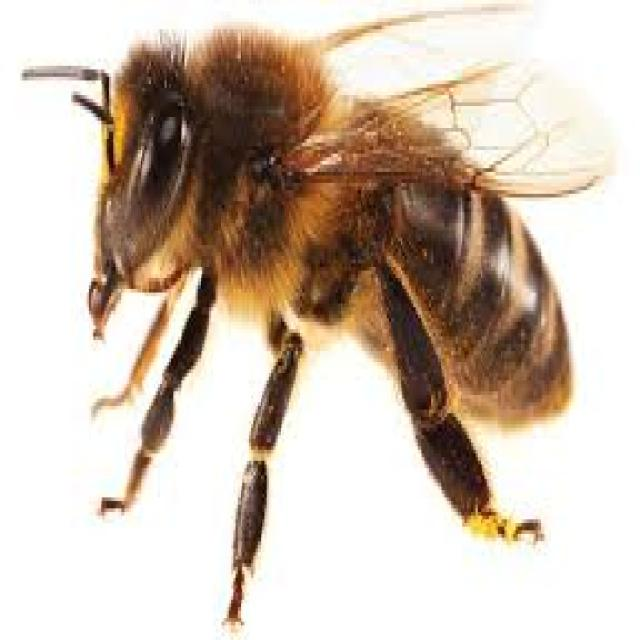Bees: (21, 25, 606, 632)
